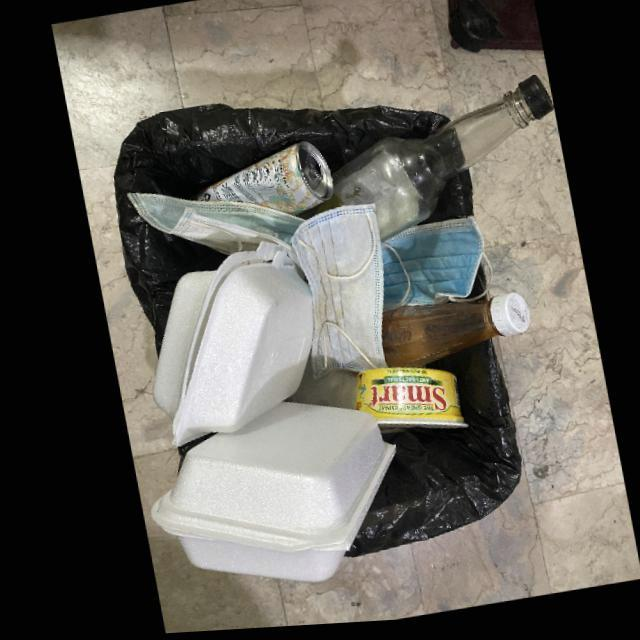aluminum: (193, 145, 329, 219)
glass_bottle: (292, 82, 551, 245), (375, 299, 524, 372)
plastic_container: (346, 372, 460, 434)
